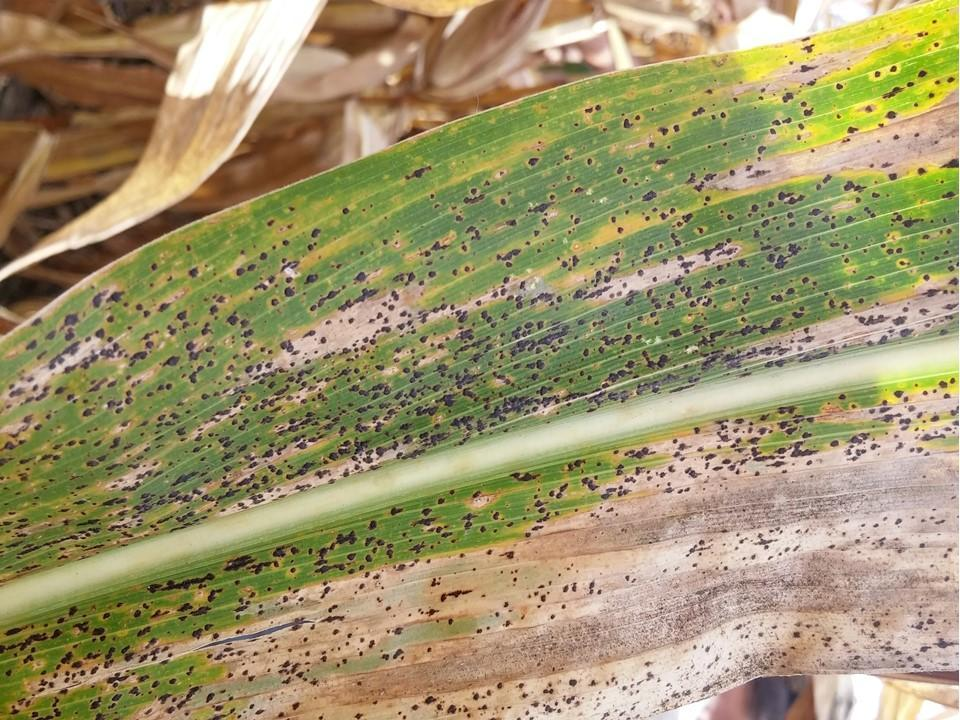Corn_Common_Rust: (0, 0, 960, 361), (0, 361, 960, 720)
